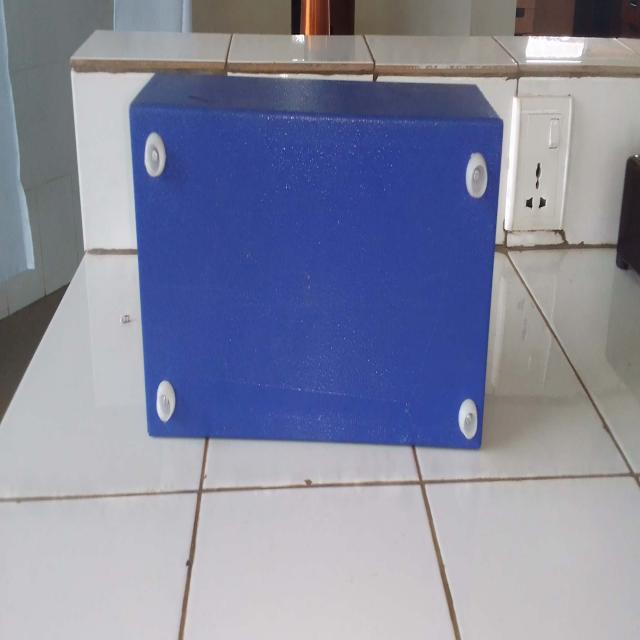Decade Capacitor Box: (125, 75, 512, 457)
